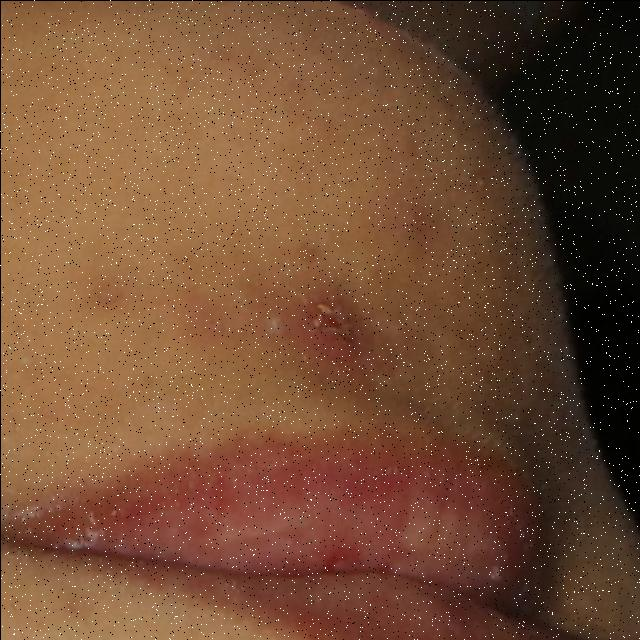nodules: (268, 266, 374, 374)
